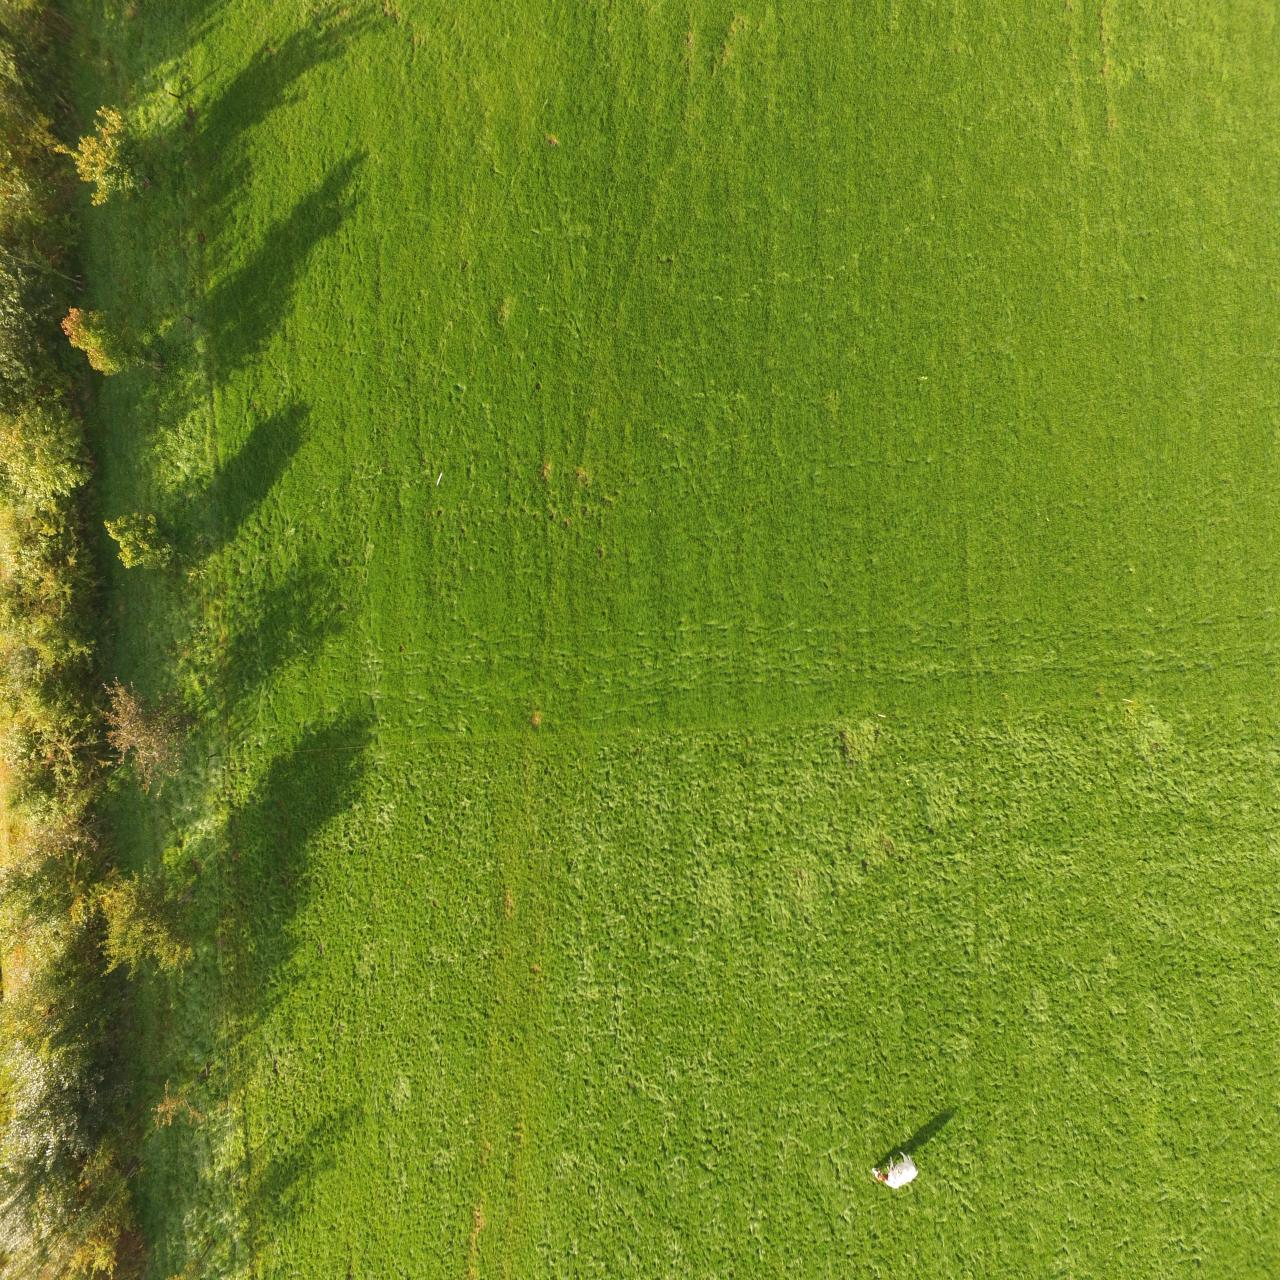cow: (870, 1146, 921, 1191)
